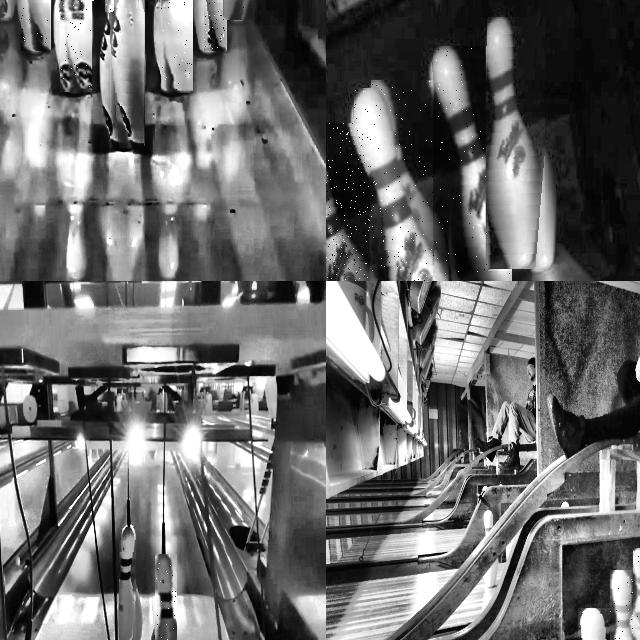bowling-pins: (354, 88, 450, 281), (433, 47, 511, 281), (487, 17, 545, 270), (372, 81, 433, 248), (326, 163, 368, 281), (111, 0, 144, 146), (161, 0, 192, 93), (62, 0, 91, 91), (119, 522, 136, 640), (157, 555, 176, 640), (613, 570, 635, 640), (28, 0, 48, 49), (206, 0, 225, 49), (633, 549, 640, 640)
